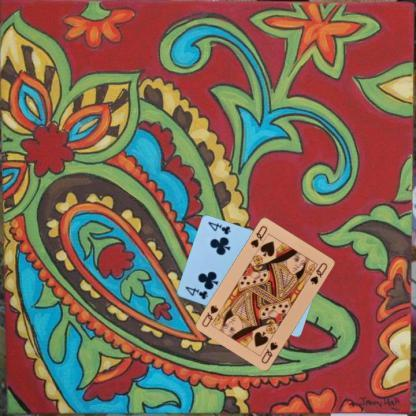4c: (182, 284, 210, 302)
Qs: (248, 223, 269, 249), (259, 340, 279, 366)
